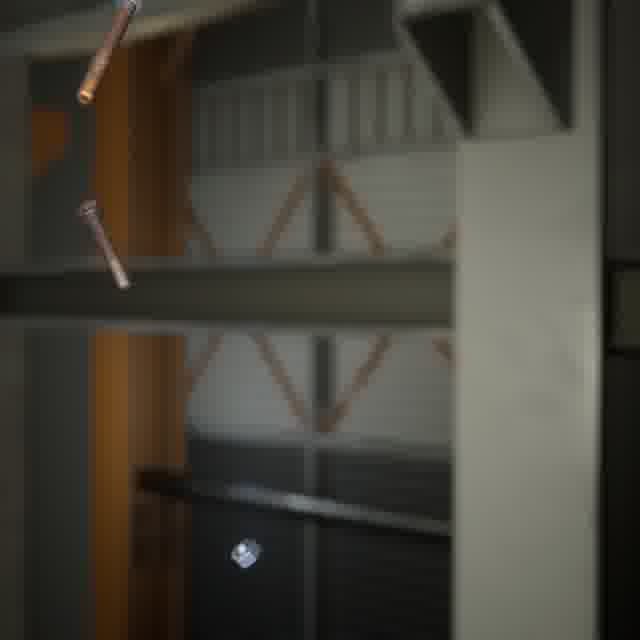bolt: (72, 0, 148, 109), (72, 195, 136, 295)
nut: (226, 533, 266, 572)
